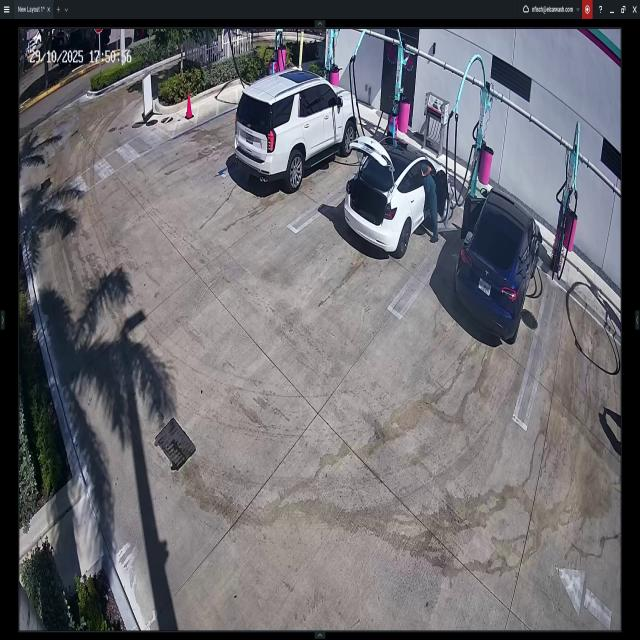Car: (231, 76, 356, 194), (342, 130, 448, 261), (460, 187, 539, 346)
